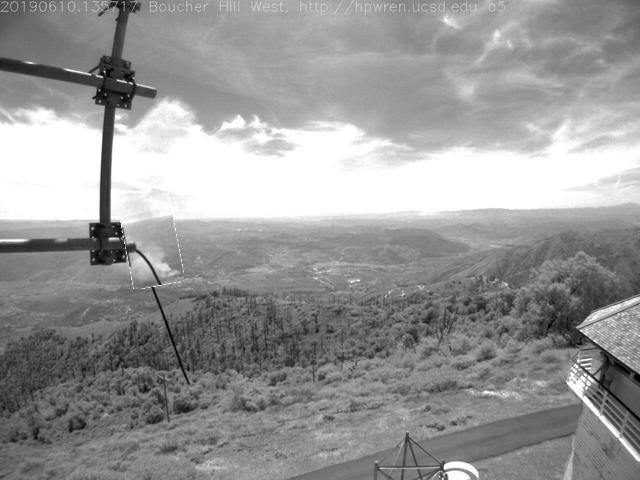smoke: (122, 189, 182, 289)
